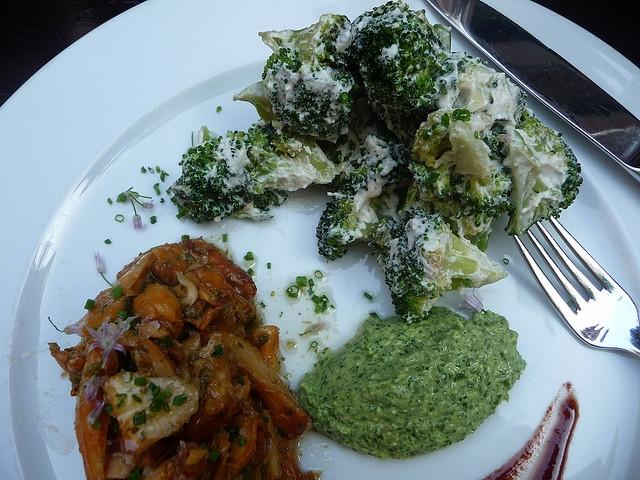broccoli: (351, 0, 467, 150), (368, 207, 508, 325), (178, 120, 348, 199), (503, 108, 583, 236), (261, 48, 362, 140), (328, 133, 420, 199), (258, 13, 359, 68), (316, 190, 393, 261), (450, 166, 517, 228), (398, 185, 431, 215)
green onion: (110, 285, 124, 300), (207, 450, 221, 464), (210, 344, 224, 358), (127, 467, 141, 480), (133, 412, 146, 426), (145, 382, 156, 398), (172, 394, 186, 406), (117, 309, 128, 321), (122, 371, 133, 383), (160, 169, 170, 182), (84, 299, 95, 310), (296, 276, 308, 286), (132, 393, 144, 403), (311, 294, 321, 304), (243, 251, 254, 260), (105, 404, 113, 416), (91, 422, 102, 430), (114, 214, 124, 222), (321, 302, 327, 314), (163, 402, 170, 412), (238, 438, 246, 446), (314, 270, 322, 278), (364, 292, 372, 300), (369, 312, 379, 318), (288, 292, 298, 298), (150, 215, 156, 224), (226, 258, 234, 264), (222, 234, 228, 242), (140, 166, 146, 173), (105, 238, 112, 244), (310, 342, 318, 347), (107, 198, 112, 206), (260, 302, 266, 308), (266, 262, 272, 268)
